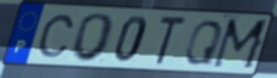0: (111, 14, 148, 64)
C: (35, 13, 77, 59)
M: (209, 17, 272, 72)
O: (68, 12, 117, 64)
Q: (181, 19, 225, 67)
T: (152, 14, 189, 67)
